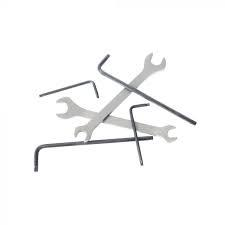wrench: (53, 95, 127, 127), (121, 51, 168, 95), (73, 100, 118, 141), (96, 50, 137, 93), (30, 139, 80, 172), (127, 100, 151, 167), (37, 79, 100, 99), (155, 123, 180, 145)
